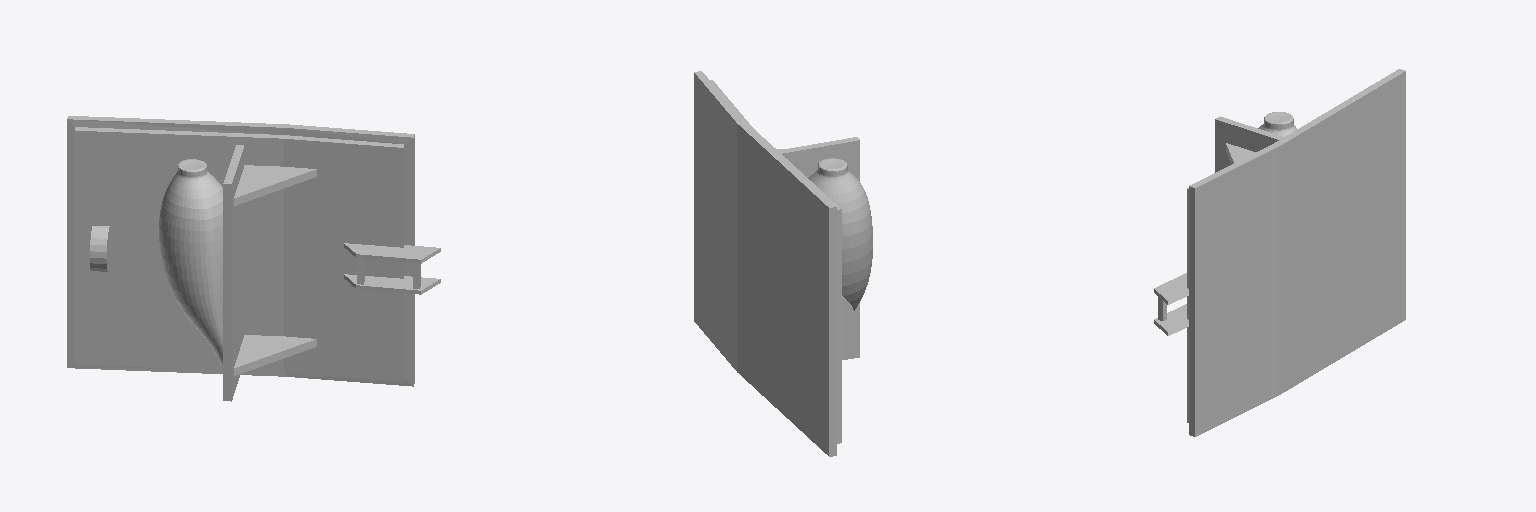
File: SM Docking spotlight and door.obj
3 views of the same model, side by side, from view 1: azimuth 30°, elevation 25°; view 2: azimuth 150°, elevation 25°; view 3: azimuth 270°, elevation 25° (orthographic).
Visible parts, largest first — view 1: Mesh.001, Mesh, Mesh.002; view 2: Mesh.002, Mesh.001, Mesh; view 3: Mesh.002, Mesh.001.
Part boxes in pixels (bbox=[...]): Mesh.001: bbox=[67, 116, 440, 401]; Mesh: bbox=[159, 159, 222, 366]; Mesh.002: bbox=[90, 226, 109, 272]; Mesh.002: bbox=[694, 73, 845, 455]; Mesh.001: bbox=[694, 71, 859, 456]; Mesh: bbox=[808, 158, 872, 310]; Mesh.002: bbox=[1195, 71, 1405, 436]; Mesh.001: bbox=[1154, 69, 1404, 436].
Bounding box in the file's own units: 0.221 × 0.2037 × 0.1874.